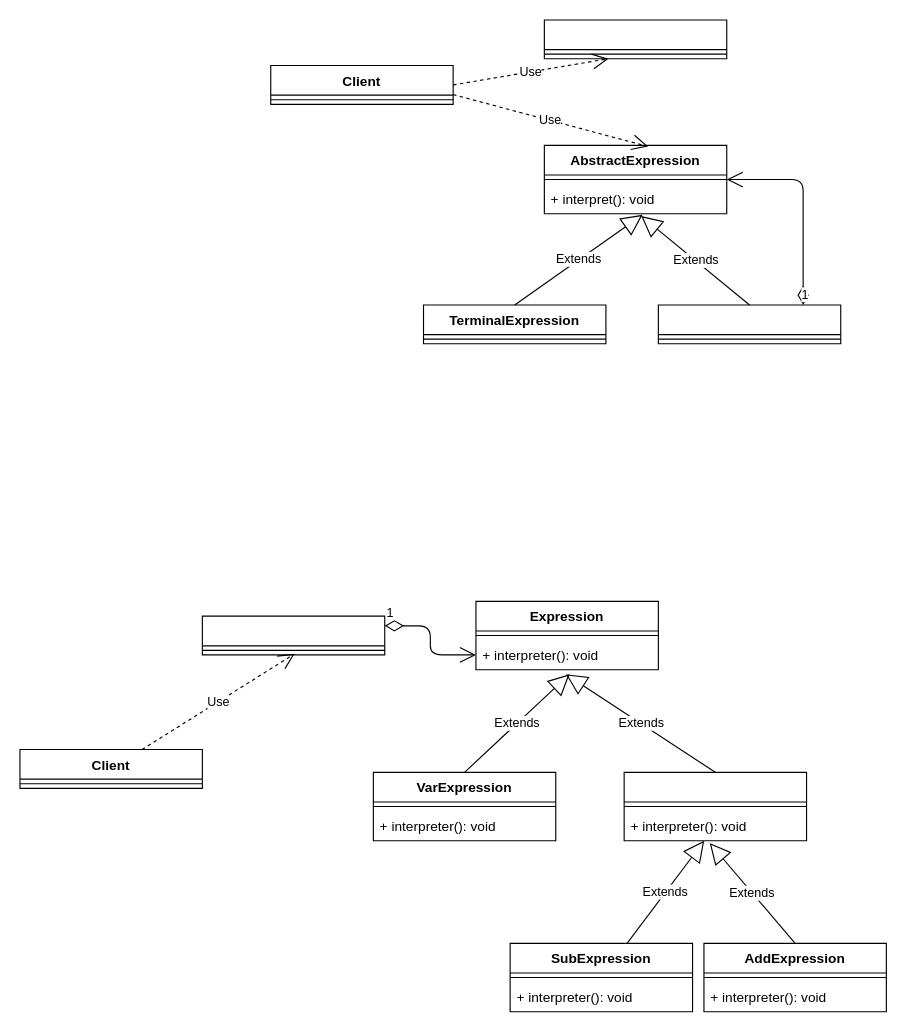
Some shapes in this 906 by 1035 pixel diagram are drawn without their labels. Here are the shapes that lost their labels. From the top down, the box of each, then its label:
(543, 19, 727, 59): Context
(657, 304, 841, 344): NonTerminalExpression
(201, 615, 385, 655): Calculator
(623, 771, 807, 841): SymbolExpression
